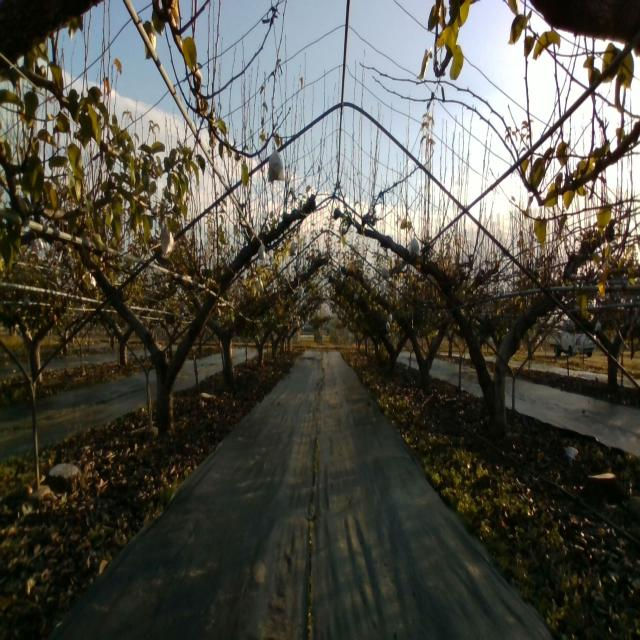pearbags: (268, 146, 285, 183), (161, 230, 174, 255), (408, 234, 421, 258)
